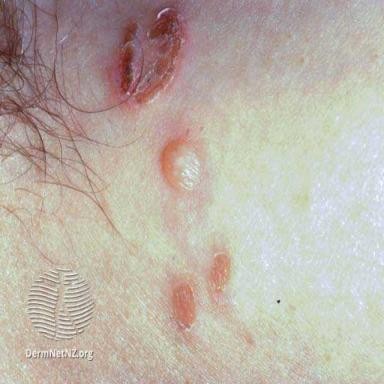Impetigo: (105, 0, 196, 109), (173, 283, 196, 328), (211, 252, 230, 294)
